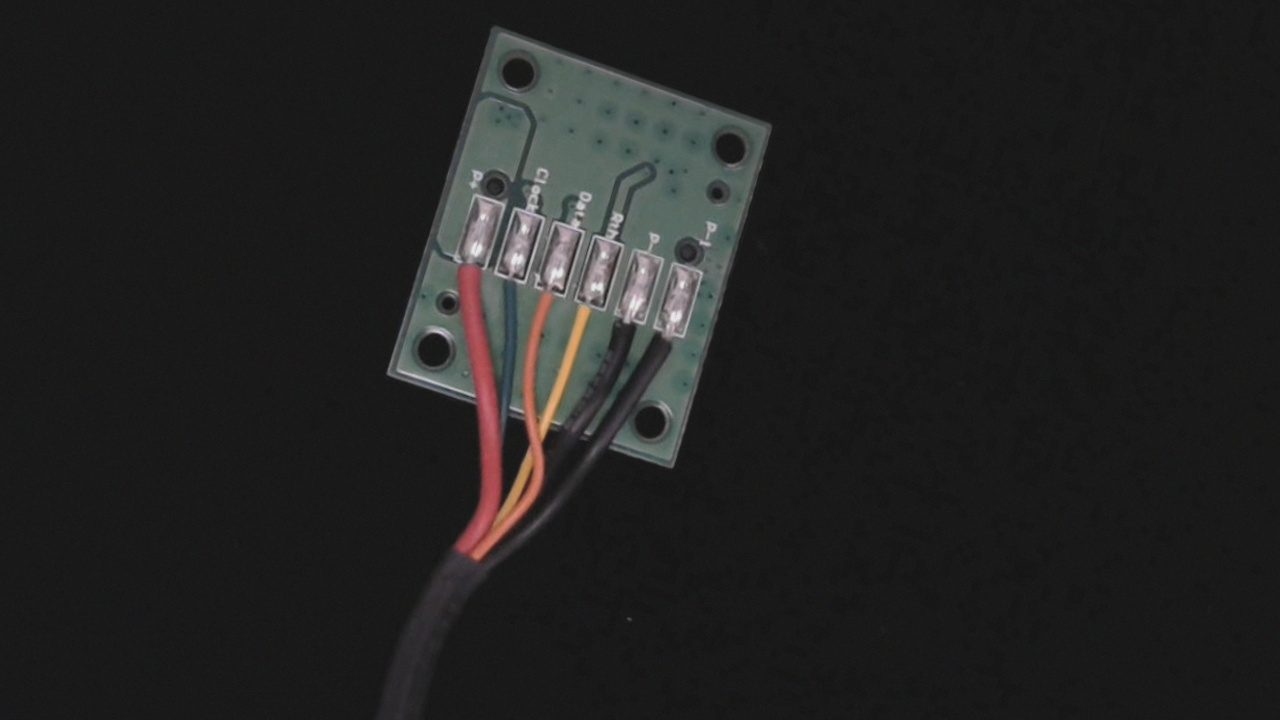Black: (593, 298, 652, 378)
Black1: (639, 313, 691, 383)
Green: (481, 255, 537, 327)
Orange: (517, 267, 573, 343)
Red: (437, 245, 493, 320)
Yellow: (555, 284, 610, 361)
